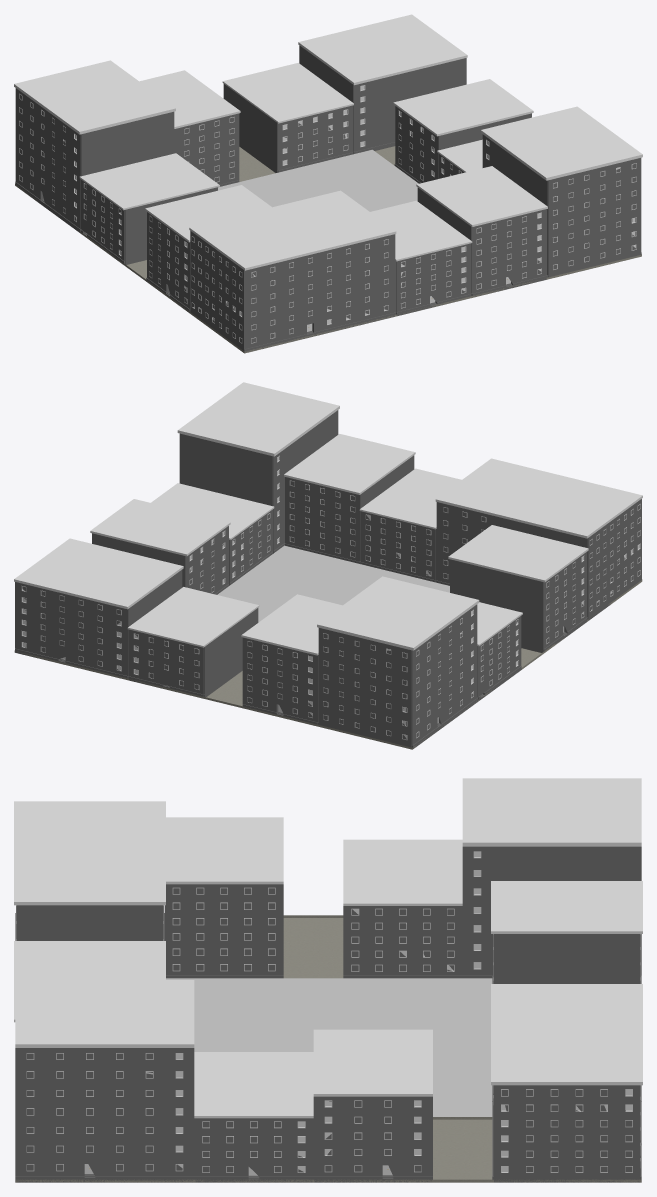
Rendered from Block01.fbx.
3 views of the same model, one above another, from view 1: azimuth 30°, elevation 25°; view 2: azimuth 150°, elevation 25°; view 3: azimuth 270°, elevation 25° (orthographic). The views are drawn at different scales.
Visible parts, largest first — view 1: BC40_F06, BC30_F07, BC30_F07.001, BC30_F06, BR20_F06_original, BR20_F04, BR20_F05.001, BR20_F05.002, BR20_F05, Courtyard, BR20_F06.001, BR20_F06.002 (+2 smaller); view 2: BC30_F07.001, BC40_F06, BC30_F06, BC30_F07, BR20_F06.002, BR20_F06_original, BR20_F04, BR20_F06.001, BR20_F05.002, BR20_F05, Courtyard, BR20_F04.001 (+2 smaller); view 3: BC30_F07, BC30_F06, Courtyard, BC30_F07.001, BC40_F06, BR20_F06.002, BR20_F05.002, BR20_F05.001, BR20_F04.001, BR20_F06.001, BuildingArea, BR20_F05 (+2 smaller).
Part boxes in pixels (left/top/right/bottom): BC40_F06: left=189, top=190, right=396, bottom=352; BC30_F07: left=481, top=106, right=642, bottom=277; BC30_F07.001: left=14, top=60, right=175, bottom=232; BC30_F06: left=298, top=14, right=467, bottom=154; BR20_F06_original: left=416, top=166, right=547, bottom=296; BR20_F04: left=222, top=63, right=353, bottom=172; BR20_F05.001: left=79, top=153, right=219, bottom=264; BR20_F05.002: left=393, top=79, right=533, bottom=183; BR20_F05: left=370, top=200, right=472, bottom=316; Courtyard: left=218, top=149, right=418, bottom=211; BR20_F06.001: left=139, top=70, right=240, bottom=187; BR20_F06.002: left=145, top=185, right=271, bottom=312; BC30_F07.001: left=317, top=576, right=479, bottom=748; BC40_F06: left=435, top=458, right=642, bottom=620; BC30_F06: left=14, top=538, right=183, bottom=678; BC30_F07: left=177, top=382, right=339, bottom=553; BR20_F06.002: left=448, top=525, right=588, bottom=652; BR20_F06_original: left=284, top=434, right=415, bottom=563; BR20_F04: left=127, top=587, right=259, bottom=697; BR20_F06.001: left=241, top=594, right=342, bottom=724; BR20_F05.002: left=90, top=499, right=230, bottom=594; BR20_F05: left=359, top=468, right=461, bottom=582; Courtyard: left=217, top=545, right=449, bottom=622; BR20_F04.001: left=151, top=483, right=274, bottom=585; BC30_F07: left=15, top=980, right=194, bottom=1182; BC30_F06: left=491, top=1006, right=642, bottom=1182; Courtyard: left=166, top=978, right=492, bottom=1116; BC30_F07.001: left=462, top=778, right=641, bottom=978; BC40_F06: left=14, top=801, right=165, bottom=940; BR20_F06.002: left=164, top=817, right=283, bottom=978; BR20_F05.002: left=313, top=1029, right=432, bottom=1182; BR20_F05.001: left=343, top=839, right=462, bottom=978; BR20_F04.001: left=194, top=1052, right=313, bottom=1182; BR20_F06.001: left=491, top=881, right=642, bottom=983; BuildingArea: left=15, top=915, right=641, bottom=1182; BR20_F05: left=14, top=941, right=165, bottom=969.
Size of the model in its own units: 10550 by 2570 by 10550.
